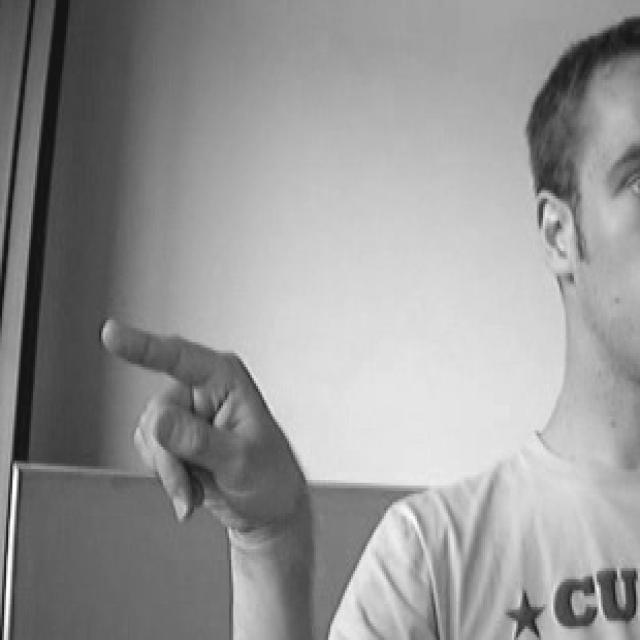P: (77, 298, 343, 581)
